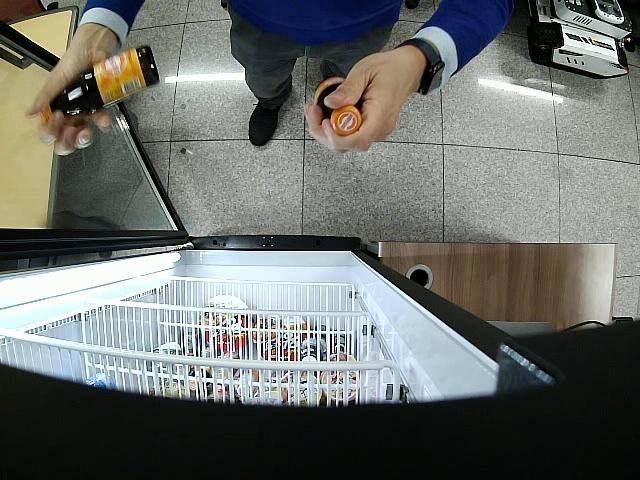17_vita500: (42, 42, 162, 124), (314, 76, 363, 136)
